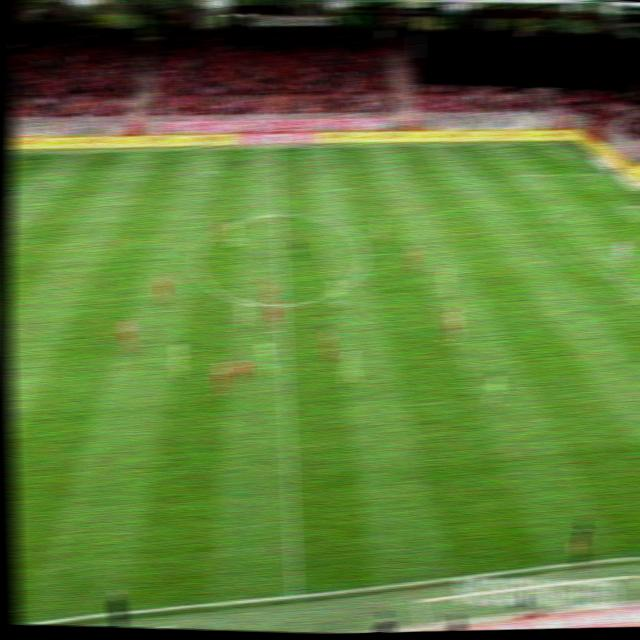bigarea_top_inner: (504, 170, 523, 182), (13, 183, 33, 193)
bigarea_top_outter: (600, 167, 618, 181)
bottom_arc_area_intersection: (606, 273, 624, 285)
corner: (557, 137, 576, 151)
halfcircle_bottom: (274, 298, 291, 310)
halfcircle_top: (270, 208, 288, 221)
midline_bottom_intersection: (284, 586, 306, 605)
midline_top_intersection: (268, 142, 285, 154)
smallarea_top_inner: (611, 200, 628, 212)
top_arc_area_intersection: (544, 209, 561, 221)
